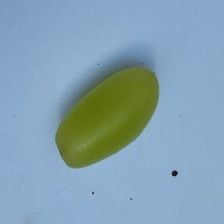grapes: (0, 16, 189, 167)
